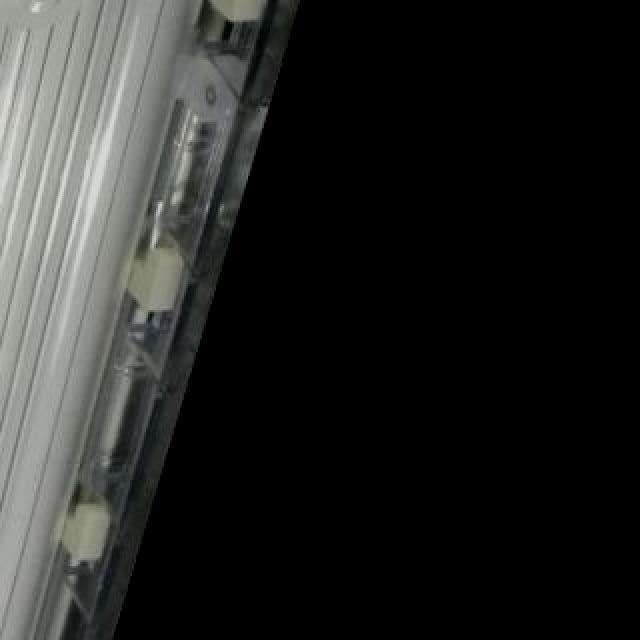fluorescent tube: (0, 0, 296, 640)
